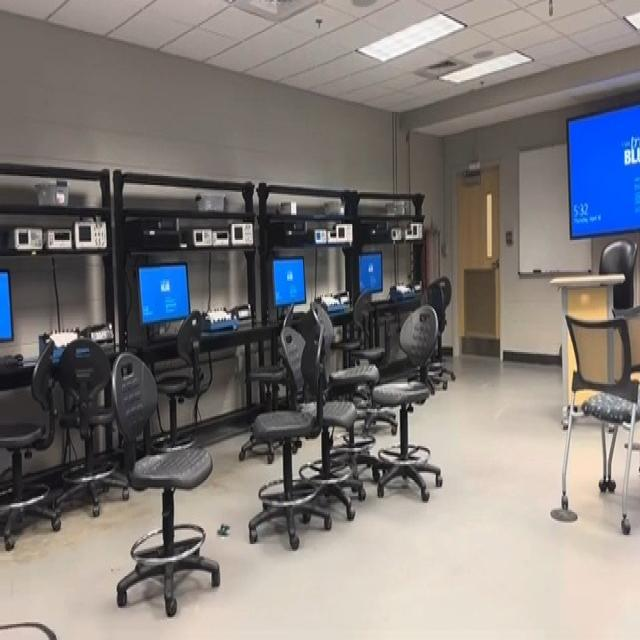drone: (209, 508, 235, 547)
